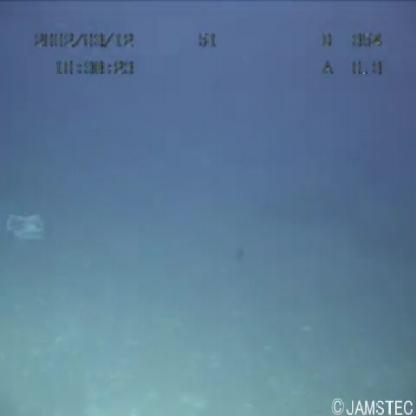Rác: (1, 195, 58, 256)
